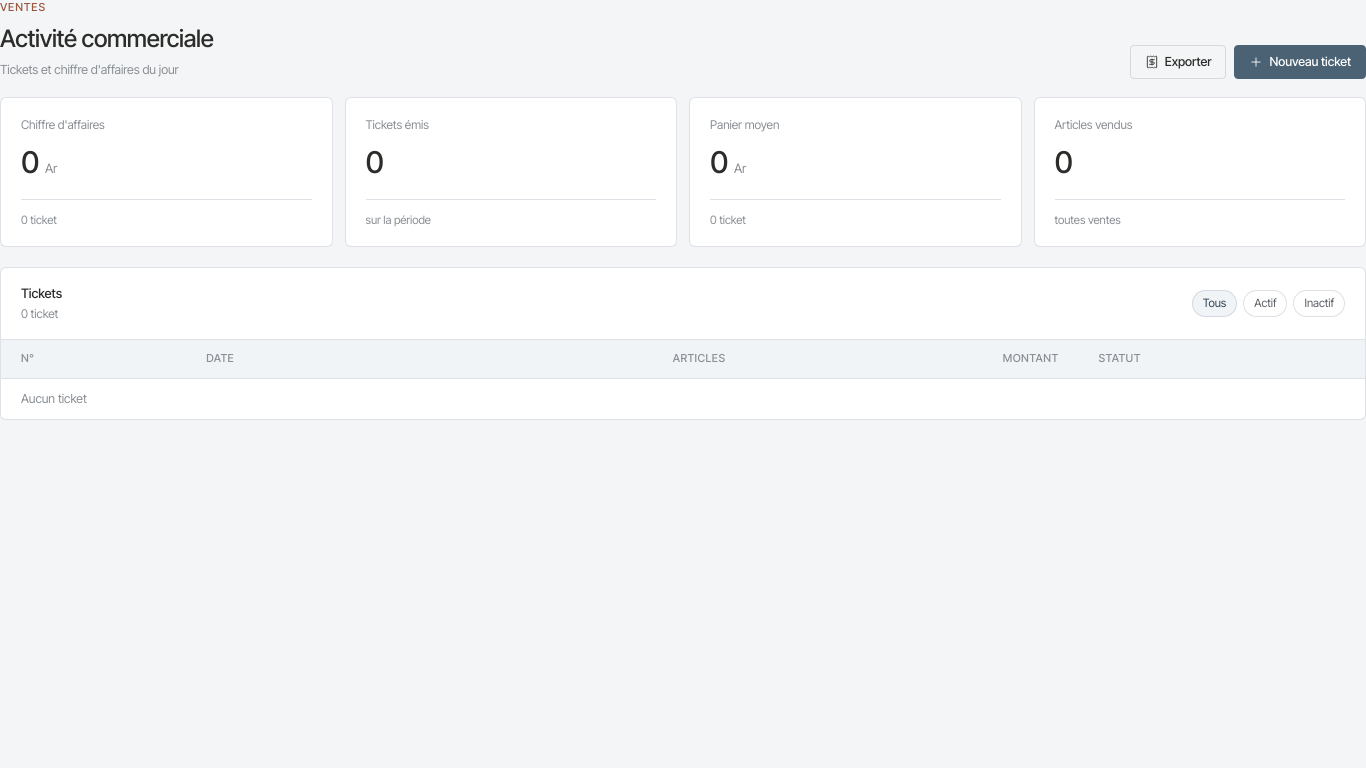
ErpSales — création de ticket › le clic sur "Nouveau ticket" ouvre la modale
Click the button "Nouveau ticket".
click(1300, 62)  # box [1234, 45, 1365, 79]
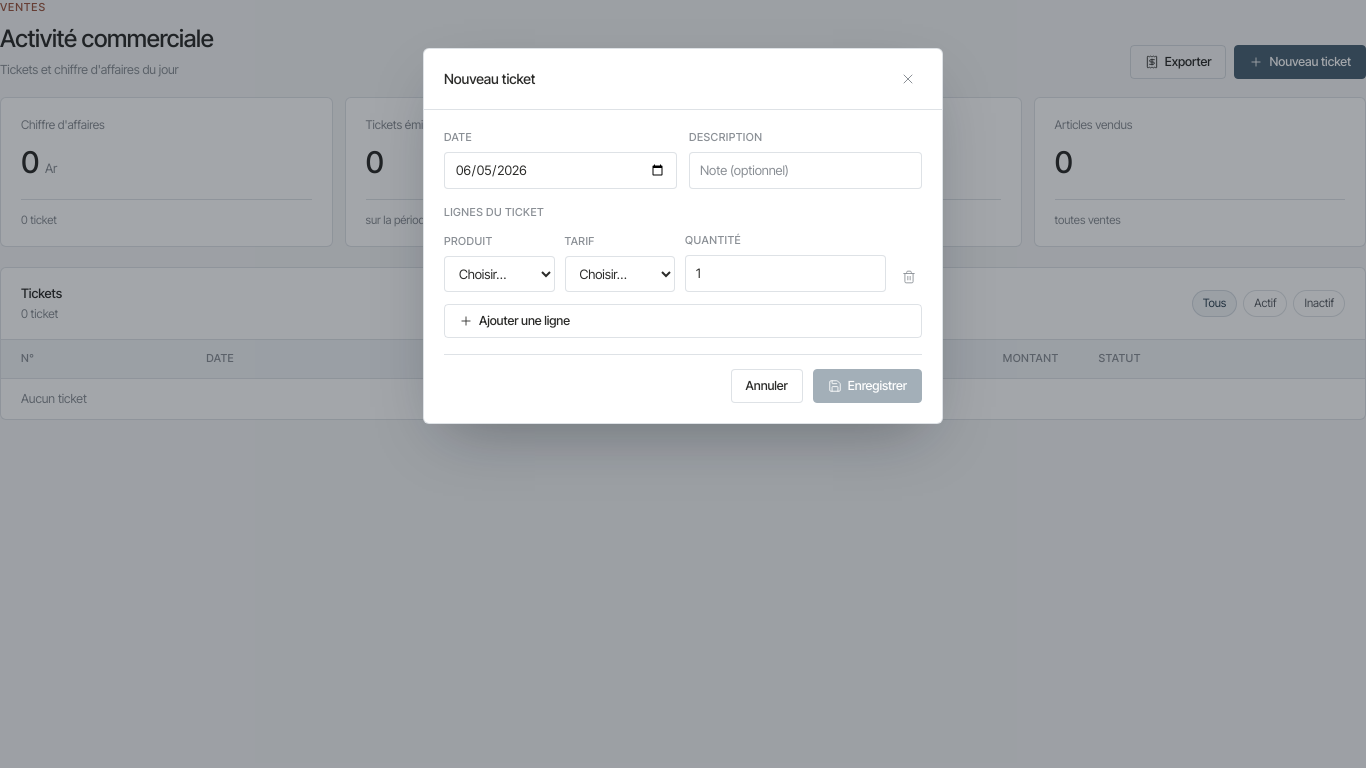
Expected: the dialog with class "modal" is shown, [423, 48, 943, 424]
Expected: the text with class "modal-title" reads "Nouveau ticket", [444, 70, 535, 87]
